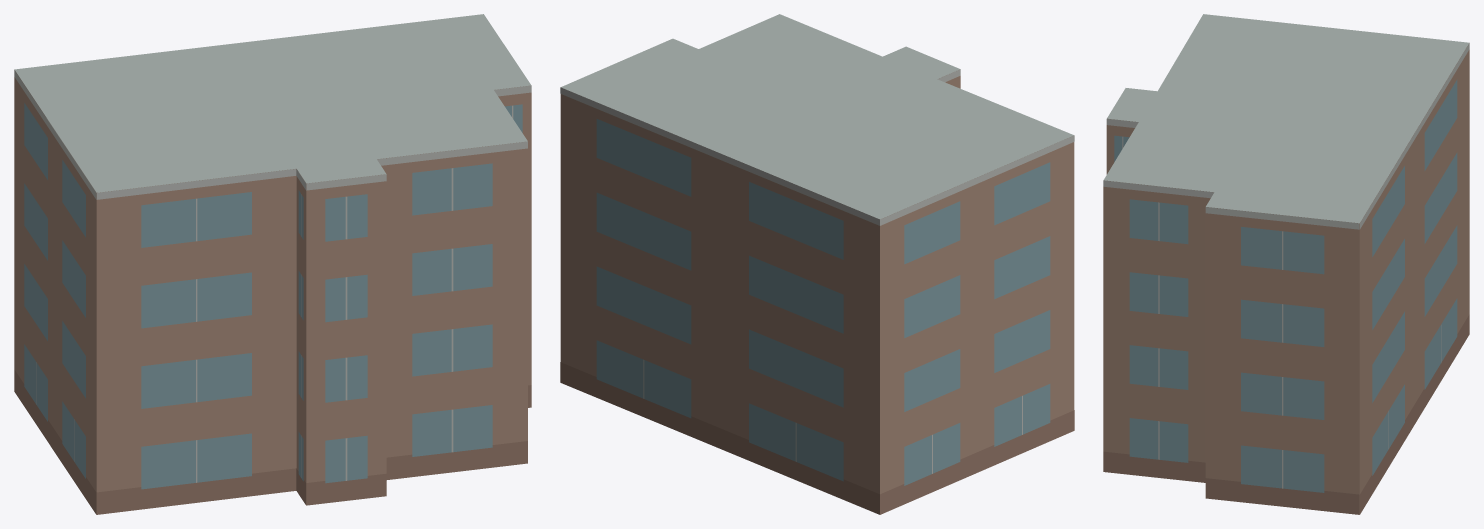
Rendered from survey-upis-33025979.glb.
The picture shows the model from 3 angles, left to right: view 1: azimuth 30°, elevation 25°; view 2: azimuth 150°, elevation 25°; view 3: azimuth 270°, elevation 25°; orthographic projection. The views are drawn at different scales.
Parts seen in each view (by area): view 1: survey-upis-33025979.tmp; view 2: survey-upis-33025979.tmp; view 3: survey-upis-33025979.tmp.
Part boxes in pixels (x1,y1,x2,y2): survey-upis-33025979.tmp: [14, 14, 531, 514]; survey-upis-33025979.tmp: [560, 14, 1074, 514]; survey-upis-33025979.tmp: [1103, 14, 1469, 514].
Size of the model in its own units: 17.1 by 11.1 by 12.64.
